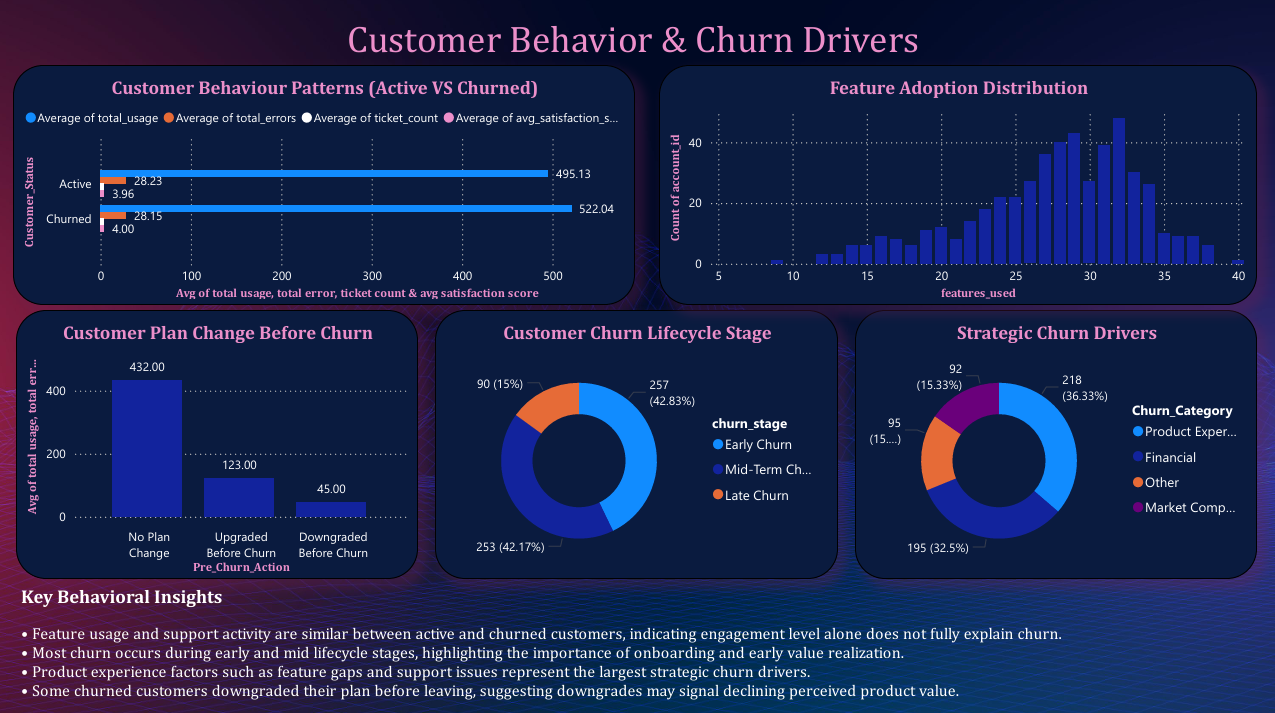

Layout of this report page (visuals, bound fields, positions):
{"tool":"powerbi","page":{"name":"Customer Behavior & Churn Drivers","canvas":[1280,720],"ordinal":1},"visuals":[{"type":"clusteredBarChart","title":"Customer Behaviour Patterns (Active VS Churned)","fields":{"Category":["account_feature_summary.Customer_Status"],"Y":["Avg(account_feature_summary.total_usage)","Avg(account_feature_summary.total_errors)","Avg(account_feature_summary.ticket_count)","Avg(account_feature_summary.avg_satisfaction_score)"]},"box":[14.5,67.4,621.7,239.2],"z":0},{"type":"donutChart","title":"Customer Churn Lifecycle Stage","fields":{"Category":["ravenstack_analytics vw_churn_lifecycle.churn_stage"],"Y":["CountNonNull(ravenstack_analytics vw_churn_lifecycle.account_id)"]},"box":[436.4,311.8,402.2,269.5],"z":1000},{"type":"donutChart","title":"Strategic Churn Drivers","fields":{"Y":["CountNonNull(ravenstack_analytics churn_events.churn_event_id)"],"Category":["ravenstack_analytics churn_events.Churn_Category"]},"box":[855.7,311.8,402.2,269.5],"z":2000},{"type":"columnChart","title":"Feature Adoption Distribution","fields":{"Category":["account_feature_summary.features_used"],"Y":["CountNonNull(account_feature_summary.account_id)"]},"box":[659.9,67.4,598.1,239.2],"z":3000},{"type":"clusteredColumnChart","title":"Customer Plan Change Before Churn","fields":{"Category":["ravenstack_analytics churn_events.Pre_Churn_Action"],"Y":["CountNonNull(ravenstack_analytics churn_events.churn_event_id)"]},"box":[17.1,311.8,402.2,269.5],"z":4000},{"type":"textbox","box":[17.1,576.7,1242.1,143.3],"z":5000},{"type":"textbox","box":[24.1,13.9,1219.5,58.3],"z":6000}]}

Visuals, with their boxes in screenshot pixels (x1, y1, x2, y2), scaled from the page's 1280x720 canvas onto the 1275x713 screenshot:
"Customer Behaviour Patterns (Active VS Churned)" clusteredBarChart: region(14, 67, 634, 304)
"Customer Churn Lifecycle Stage" donutChart: region(435, 309, 835, 576)
"Strategic Churn Drivers" donutChart: region(852, 309, 1253, 576)
"Feature Adoption Distribution" columnChart: region(657, 67, 1253, 304)
"Customer Plan Change Before Churn" clusteredColumnChart: region(17, 309, 418, 576)
textbox: region(17, 571, 1254, 712)
textbox: region(24, 14, 1239, 71)
